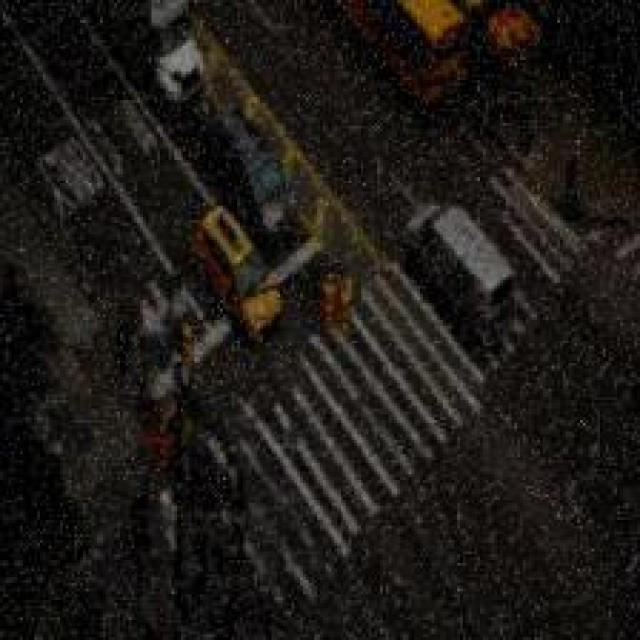walk-crossing: (202, 154, 602, 586)
